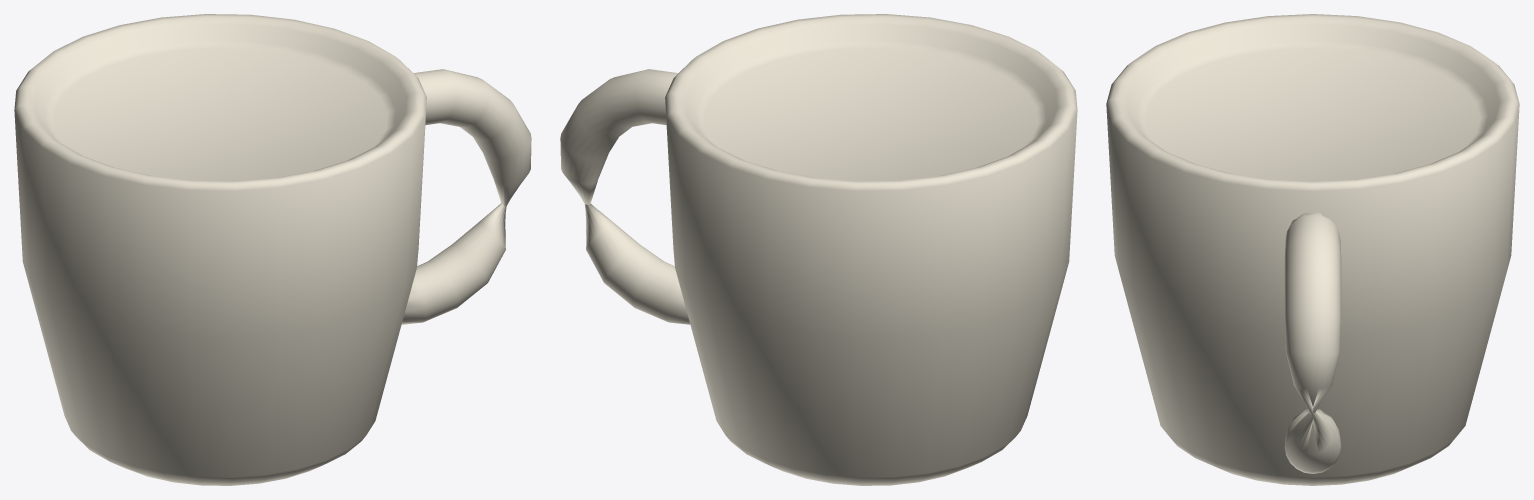
The model's file is prop_cup.glb.
The picture shows the model from 3 angles, left to right: view 1: azimuth 30°, elevation 25°; view 2: azimuth 150°, elevation 25°; view 3: azimuth 270°, elevation 25°; orthographic projection.
Visible parts, largest first — view 1: prop_cup; view 2: prop_cup; view 3: prop_cup.
Part boxes in pixels (x1,y1,x2,y2): prop_cup: [14, 14, 531, 485]; prop_cup: [560, 14, 1077, 485]; prop_cup: [1106, 14, 1519, 485].
Size of the model in its own units: 0.1303 by 0.085 by 0.0959.
